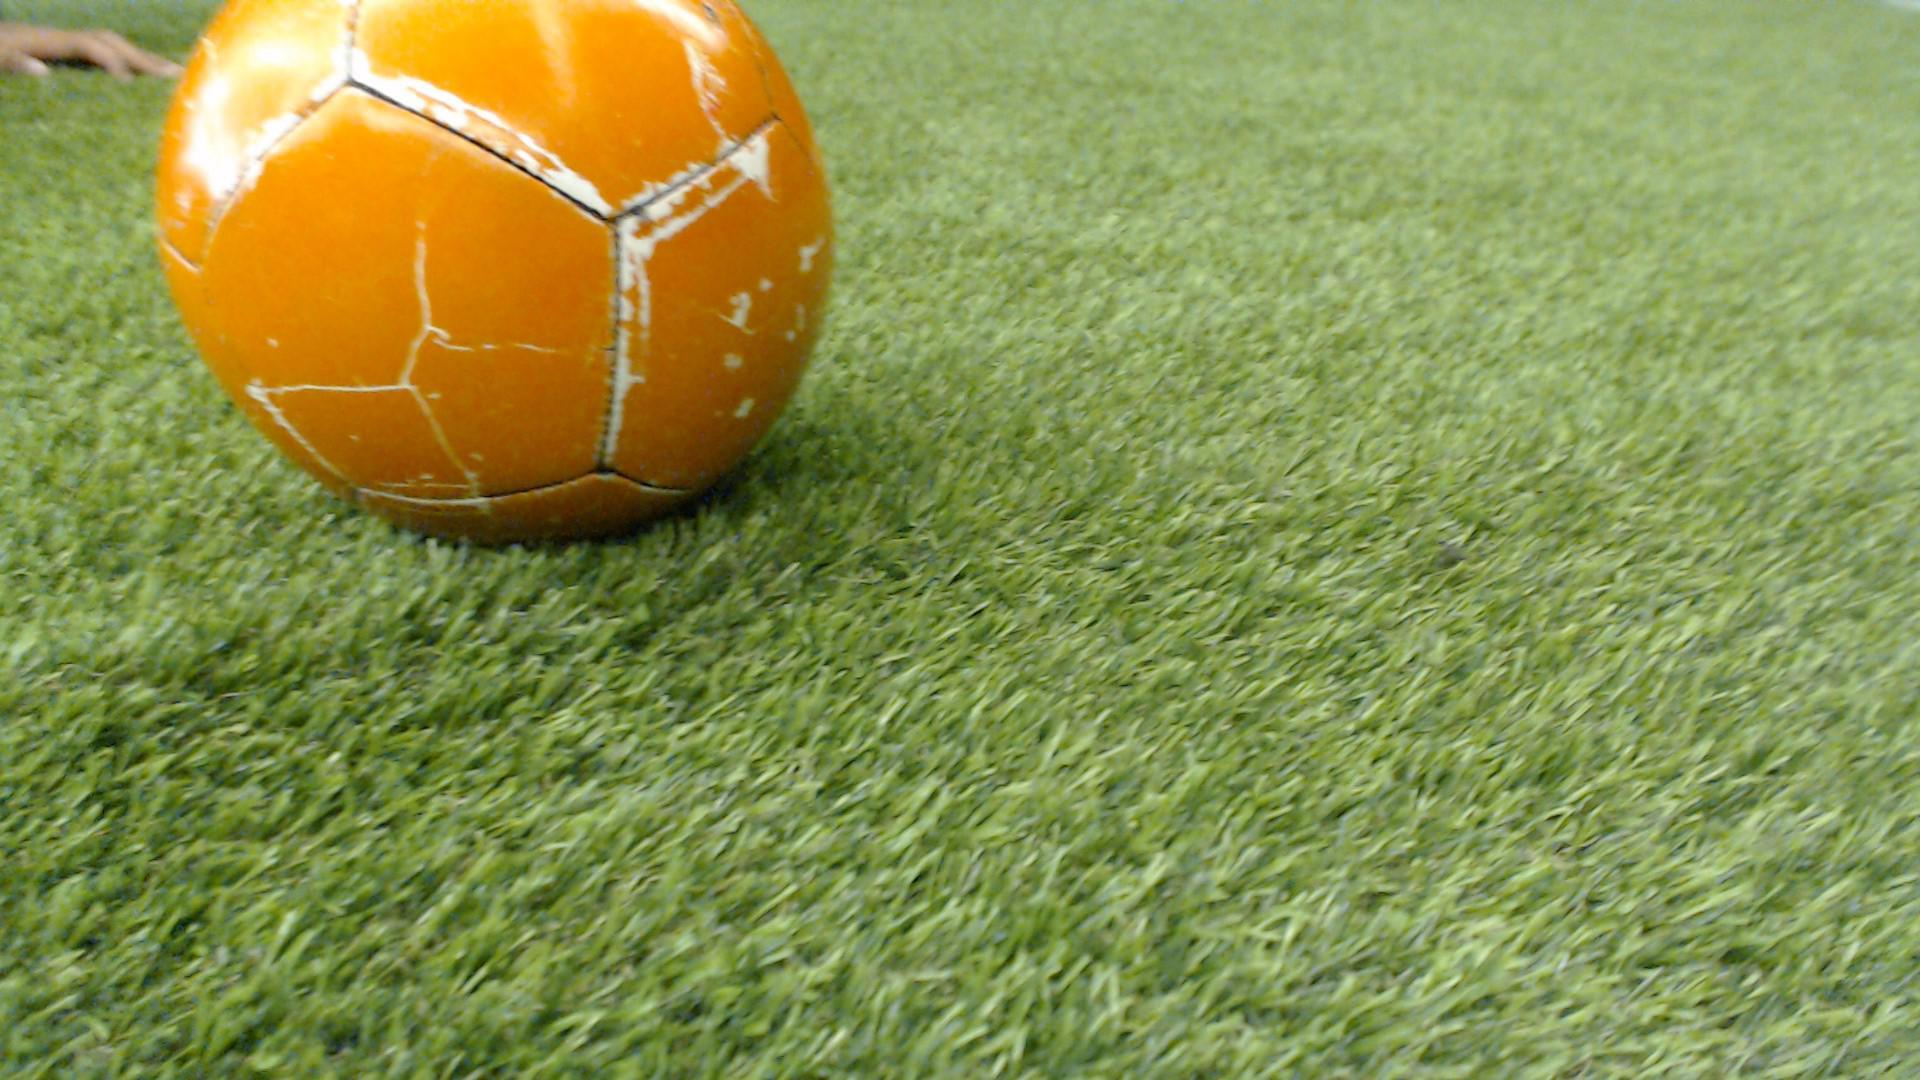bola: (121, 5, 901, 579)
